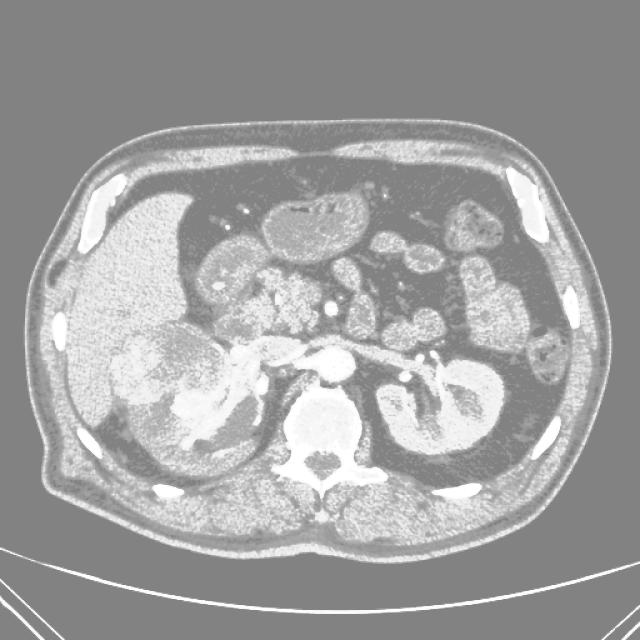TUMOR: (95, 295, 471, 445)
